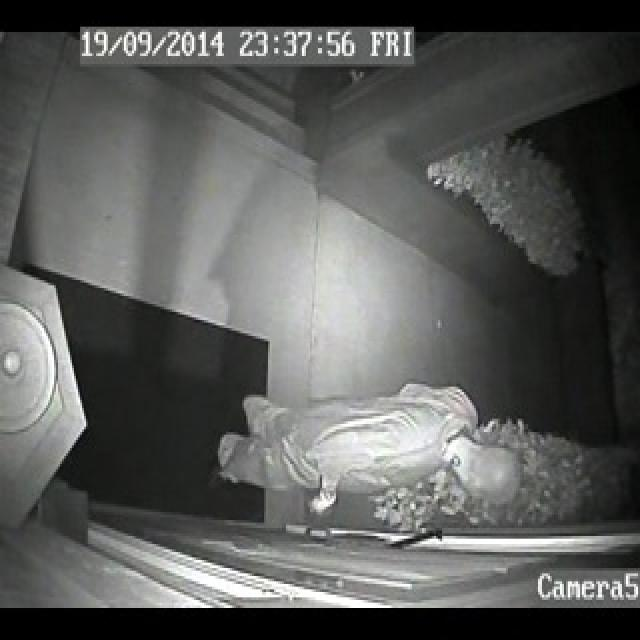thief: (211, 369, 529, 534)
